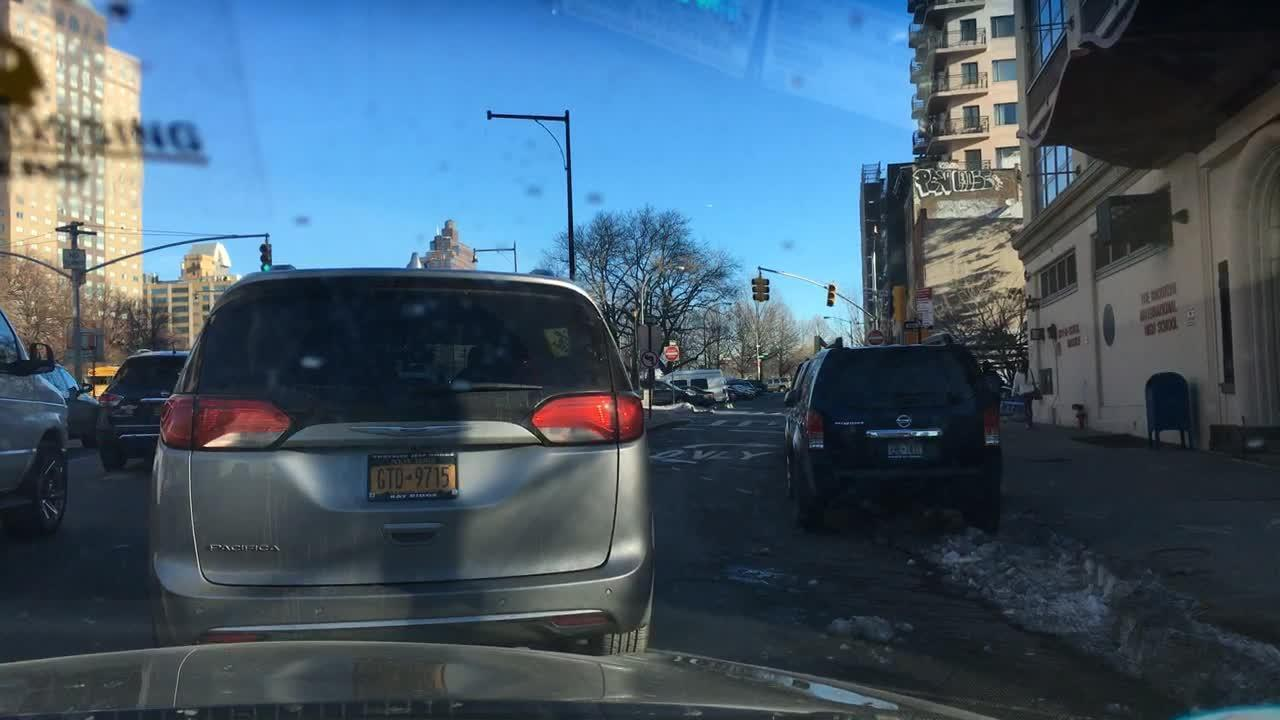Chrysler: (341, 419, 476, 443)
Nissan: (897, 414, 911, 428)
